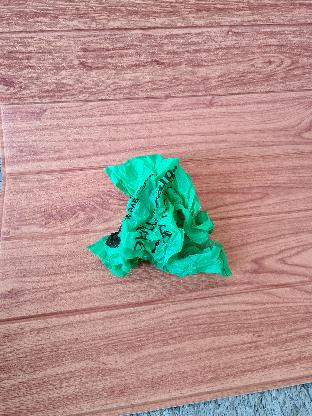Plastic Bag: (86, 155, 232, 280)
